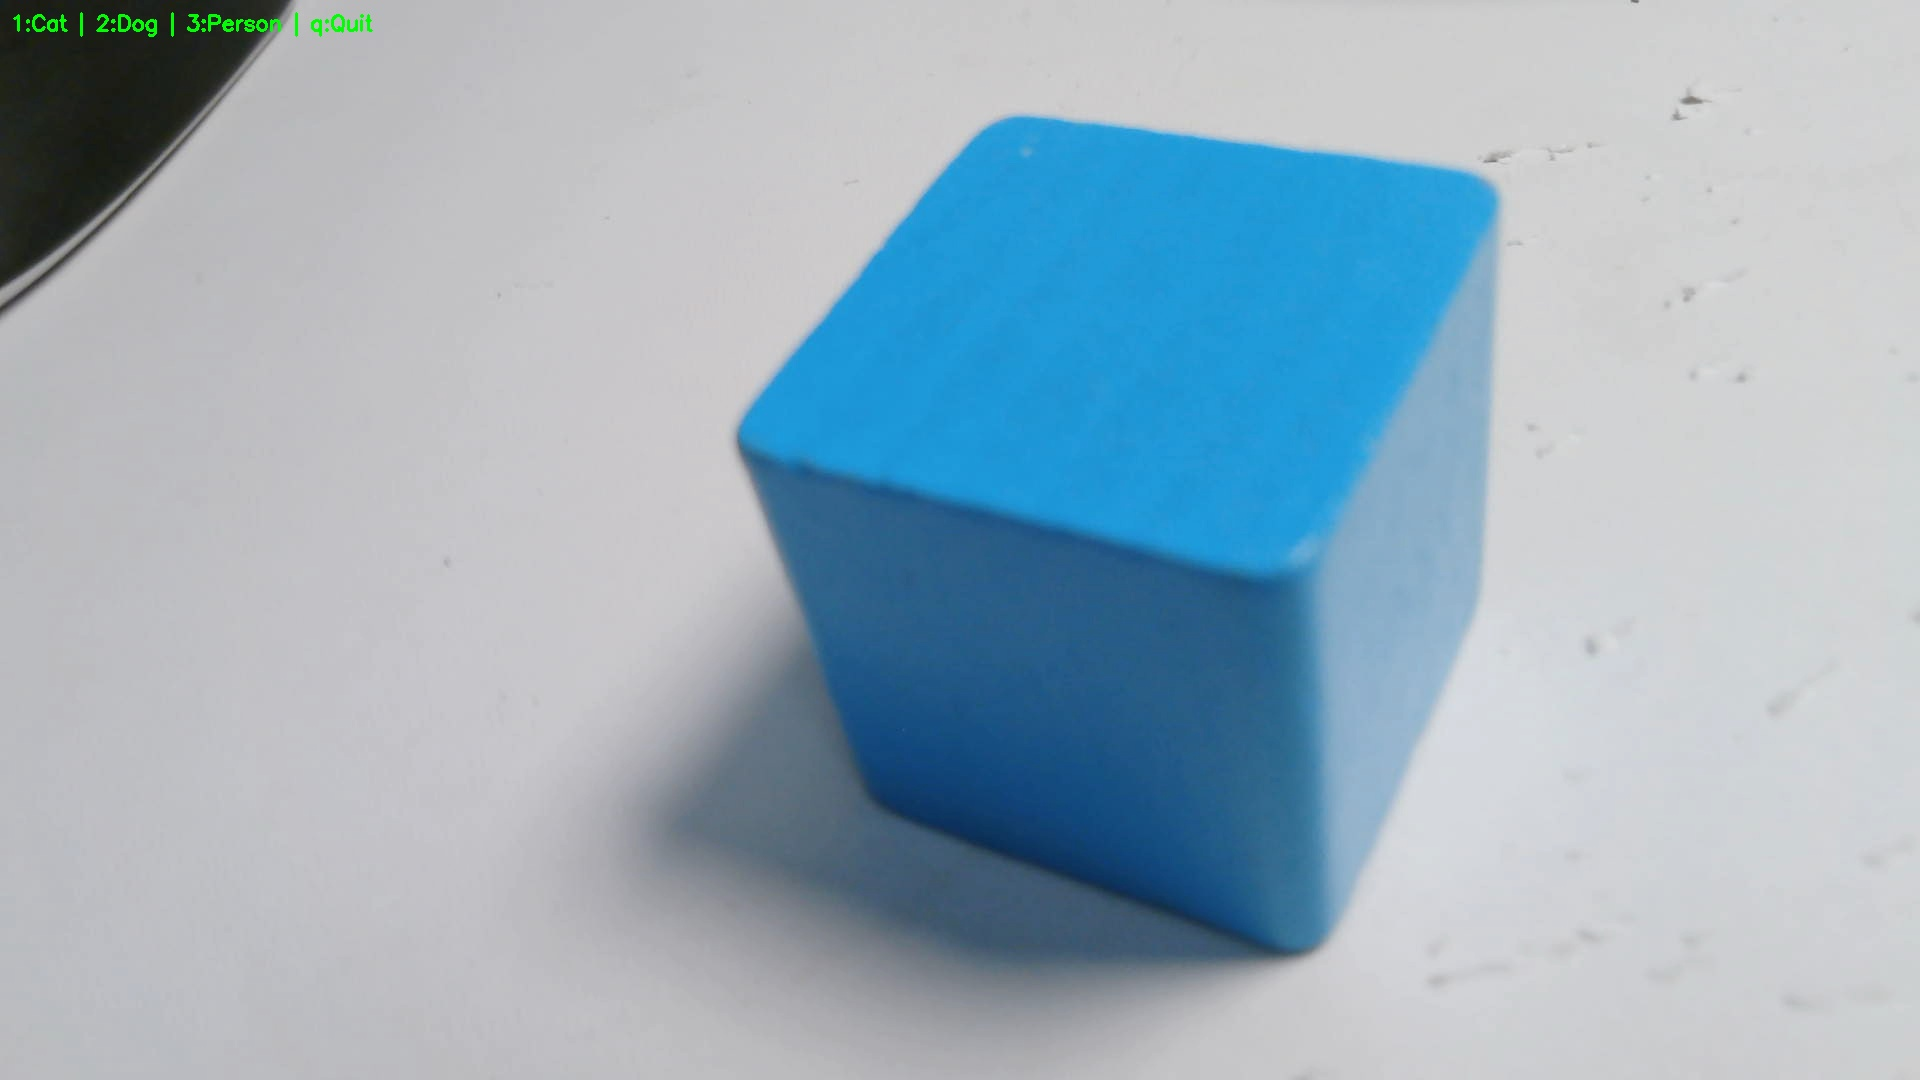blue: (735, 113, 1506, 953)
